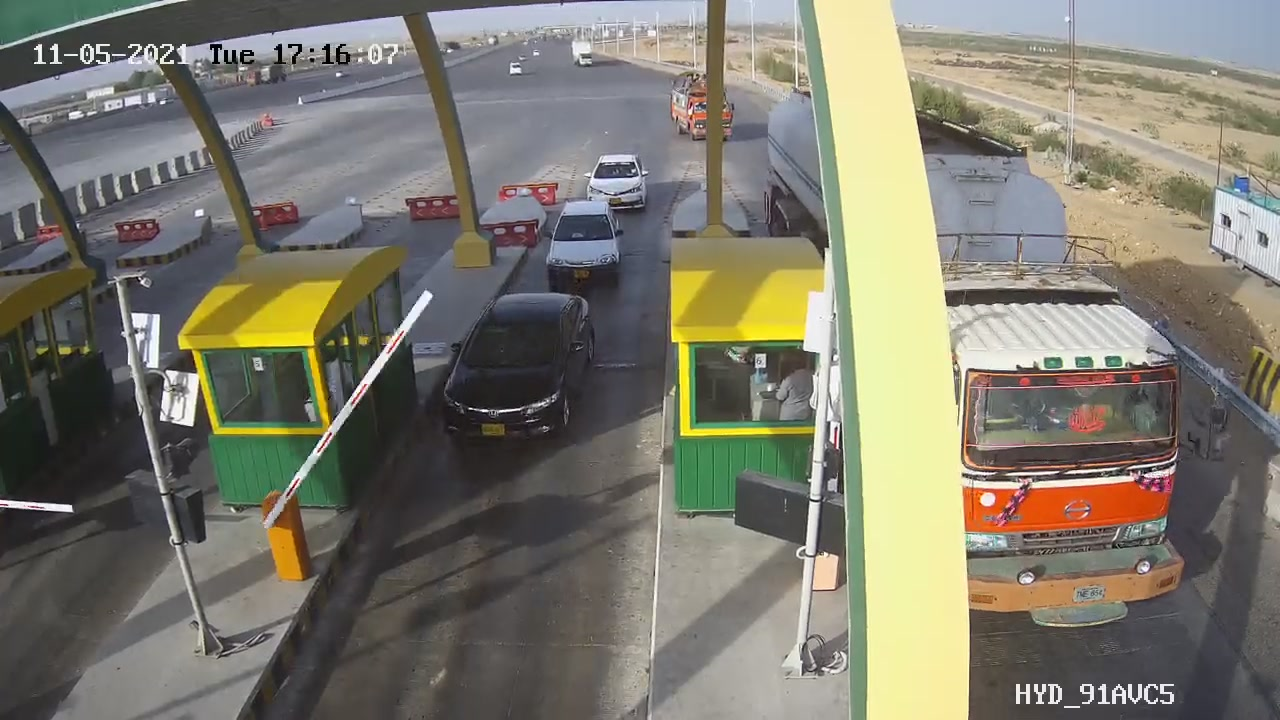F1: (427, 281, 607, 462)
